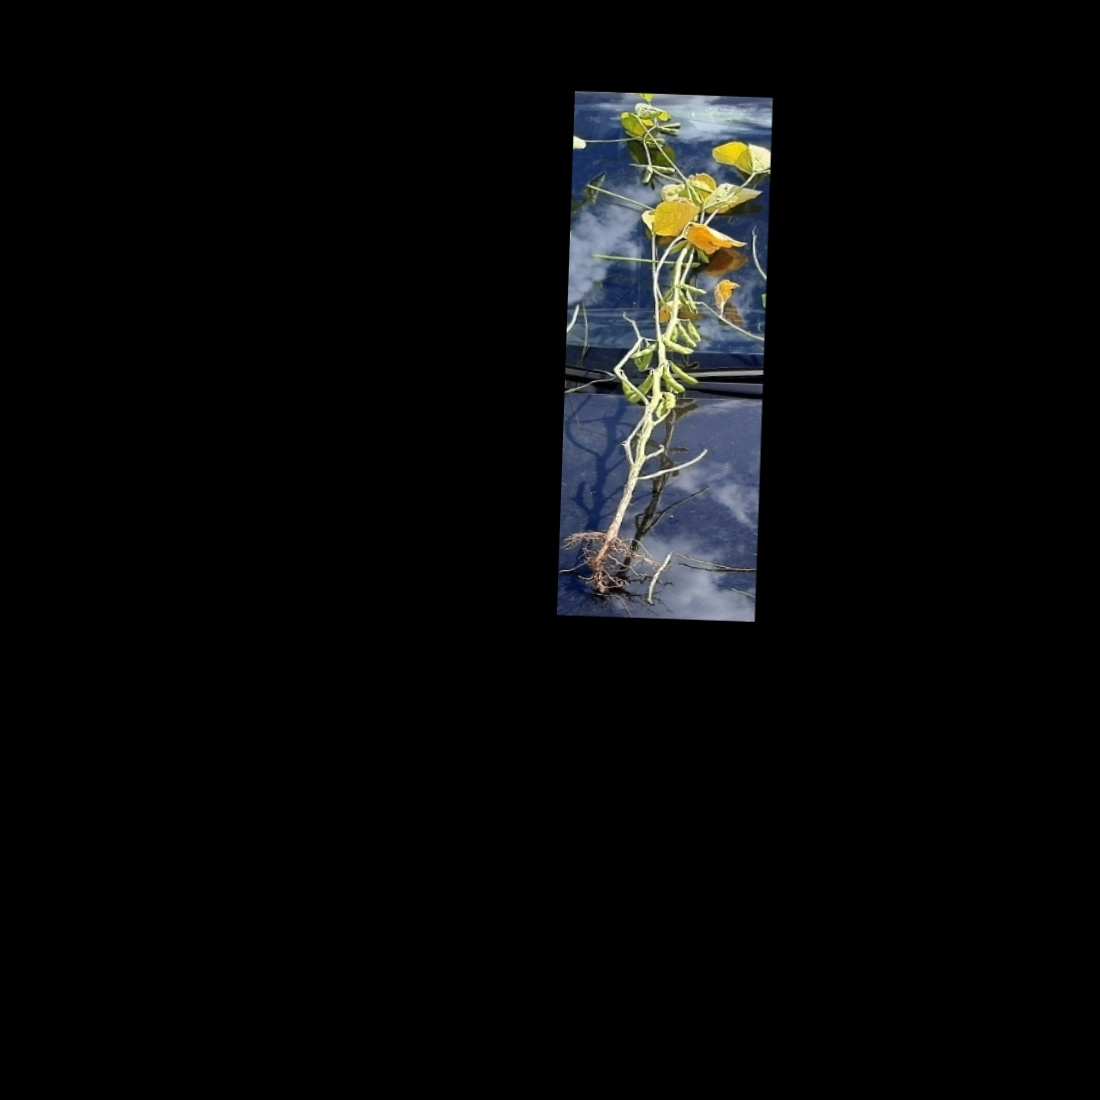pod: (624, 373, 655, 409), (658, 363, 690, 397), (665, 363, 702, 389), (671, 321, 701, 351), (661, 367, 690, 394), (626, 339, 660, 362), (658, 337, 701, 355), (634, 345, 654, 378), (677, 279, 710, 295)
soy: (567, 91, 757, 600)
